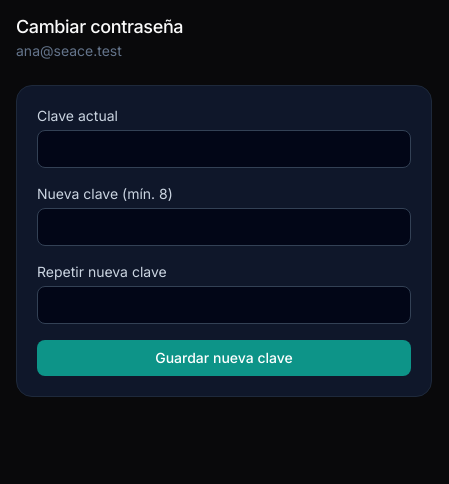
Scenario: CambiarClave › valida que las claves nuevas coincidan
Check: the heading "Cambiar contraseña" is shown, box [16,16,183,37]
Type "vieja1234" into the password field labelled "Clave actual". click: (224, 149)
box: [37,130,411,168]
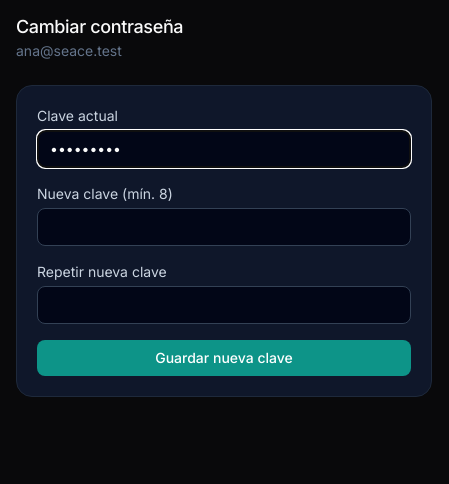
Type "nueva12345" into the password field labelled "Nueva clave (mín. 8)". click: (224, 227)
box: [37,208,411,246]
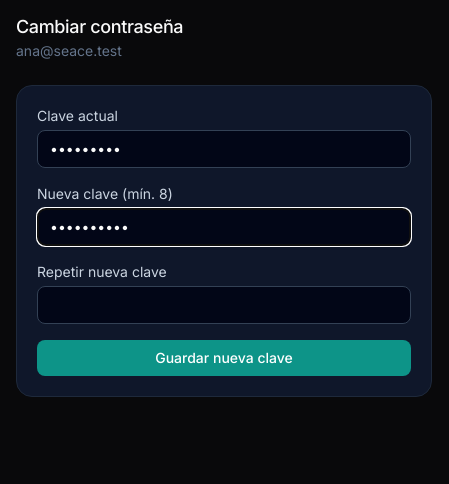
Type "distinta9" into the password field labelled "Repetir nueva clave". click: (224, 305)
box: [37,286,411,324]
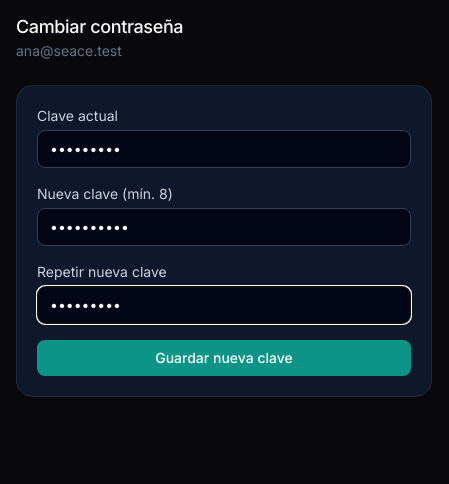
Click the button "Guardar nueva clave". click: (224, 358)
box: [37,340,411,376]
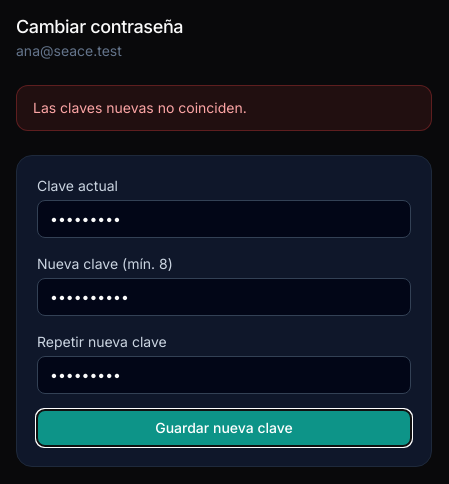
Check: the text "Las claves nuevas no coinciden." is shown, box [33,99,247,116]
